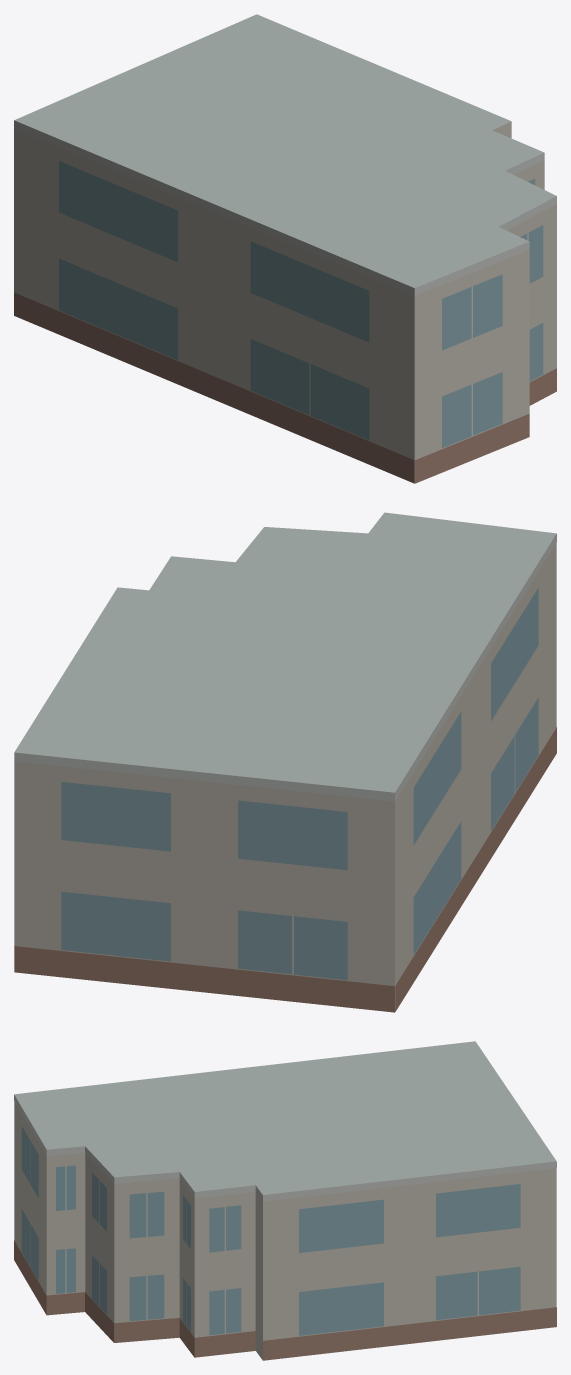
Rendered from survey-upis-32872155.glb.
The picture shows the model from 3 angles, top to bottom: view 1: azimuth 30°, elevation 25°; view 2: azimuth 150°, elevation 25°; view 3: azimuth 270°, elevation 25°; orthographic projection. The views are drawn at different scales.
Parts seen in each view (by area): view 1: survey-upis-32872155.tmp; view 2: survey-upis-32872155.tmp; view 3: survey-upis-32872155.tmp.
Part boxes in pixels (x1,y1,x2,y2): survey-upis-32872155.tmp: (14,14,556,483); survey-upis-32872155.tmp: (14,512,556,1012); survey-upis-32872155.tmp: (14,1041,556,1360).
Size of the model in its own units: 12.17 by 6.1 by 18.13.
